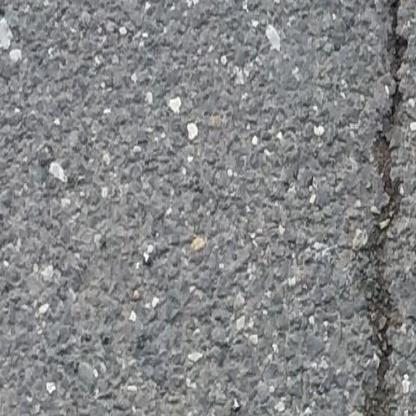Cracks: (363, 0, 412, 416)
